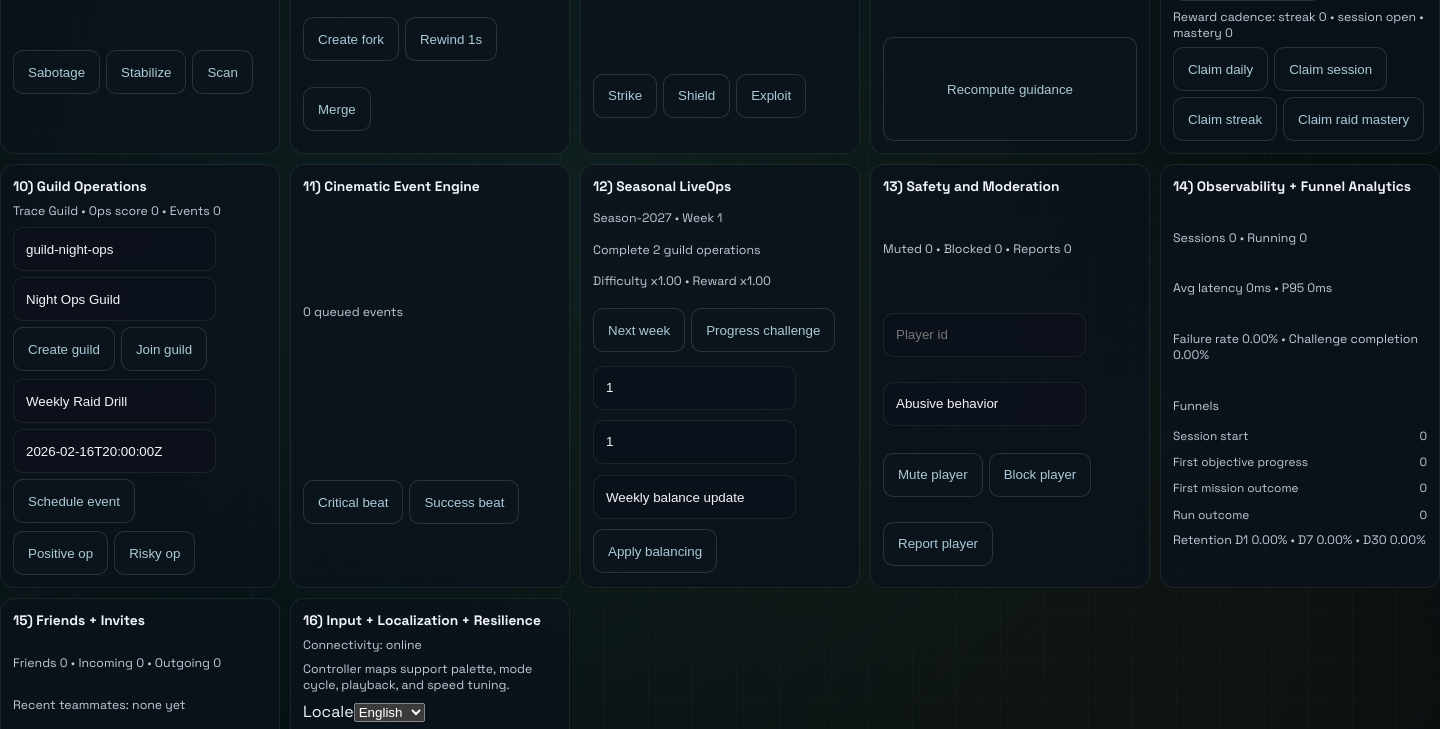
Test: GameplayMode › applies liveops balancing and creates a tuning entry
(page scrolled)
Replace the text in the field named "LiveOps difficulty factor" with "1.4" at (694, 388), box [593, 366, 796, 410]
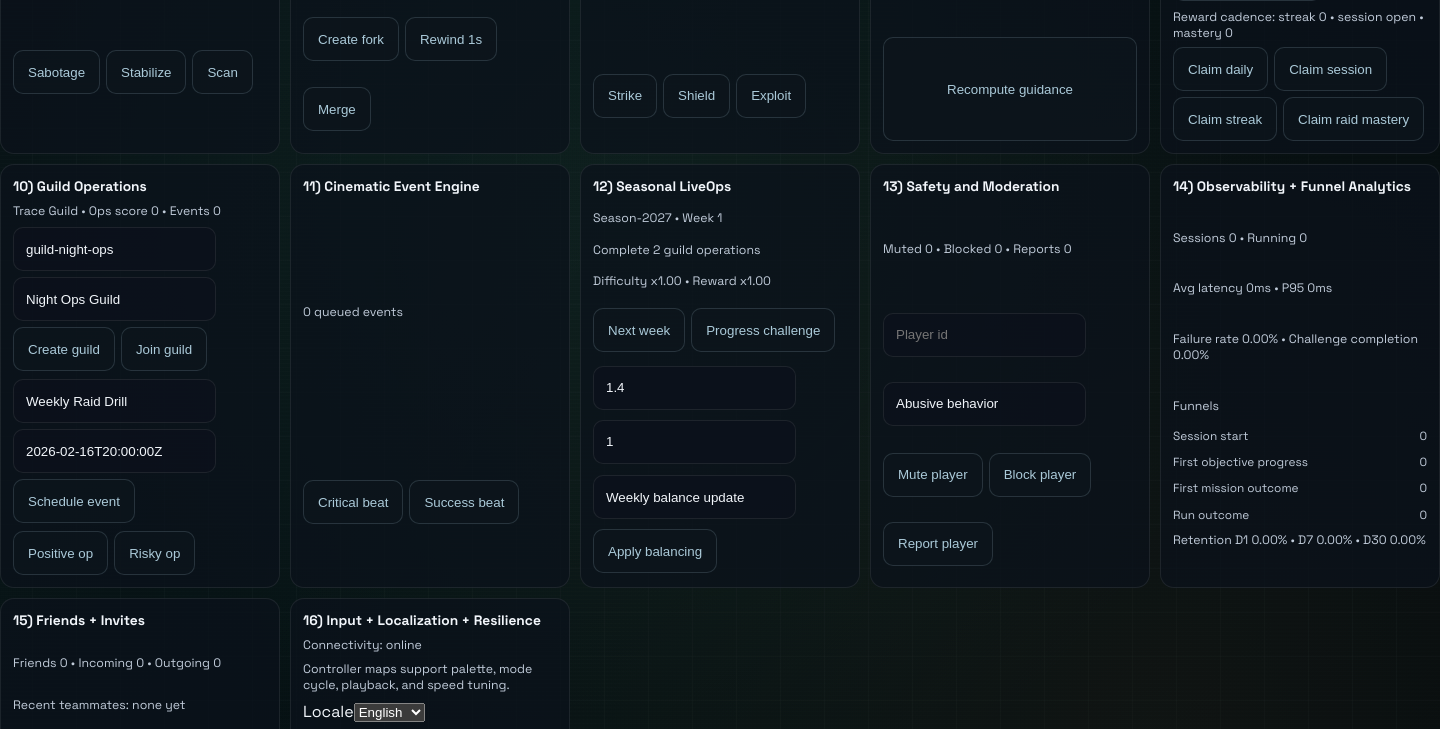
Replace the text in the field named "LiveOps reward multiplier" with "1.6" at (694, 442), box [593, 420, 796, 464]
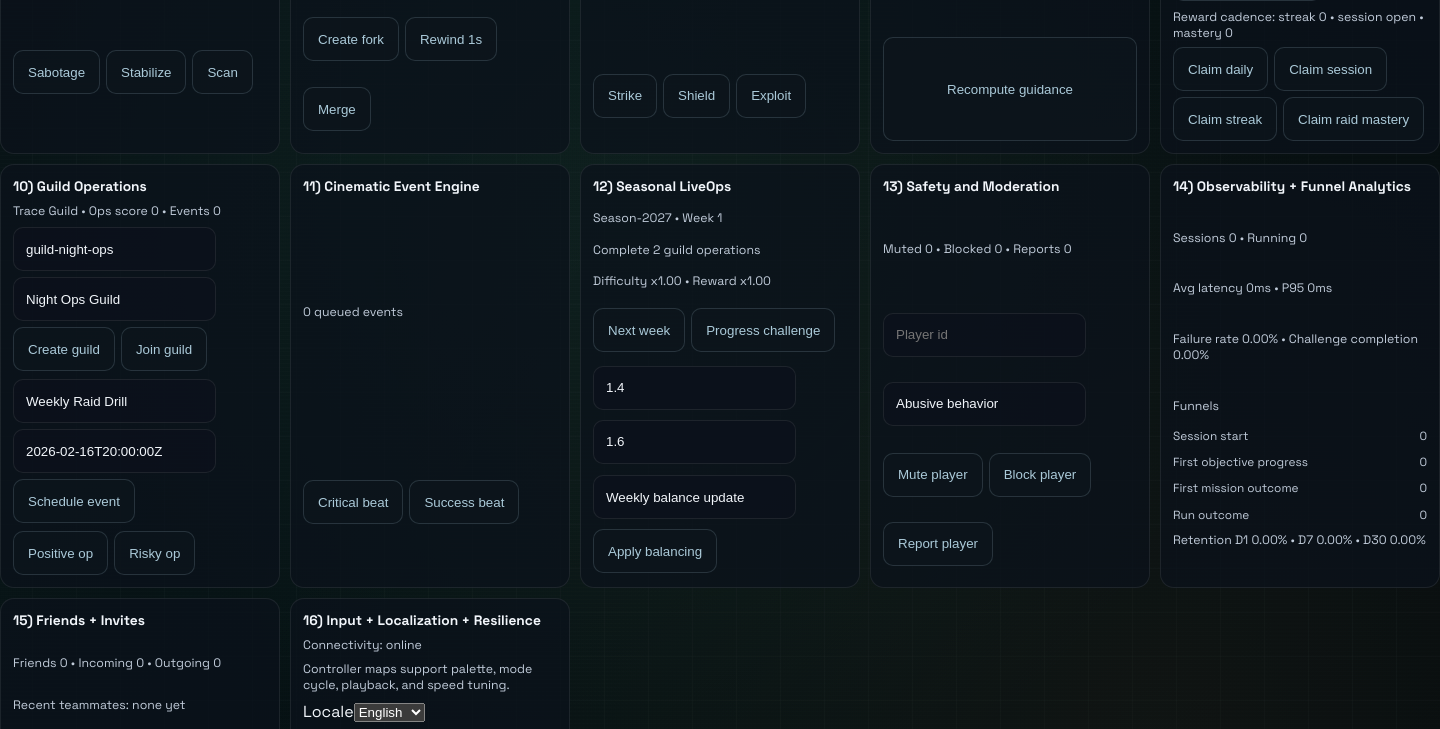
Replace the text in the field named "LiveOps tuning note" with "Ops hotfix" at (694, 497), box [593, 475, 796, 519]
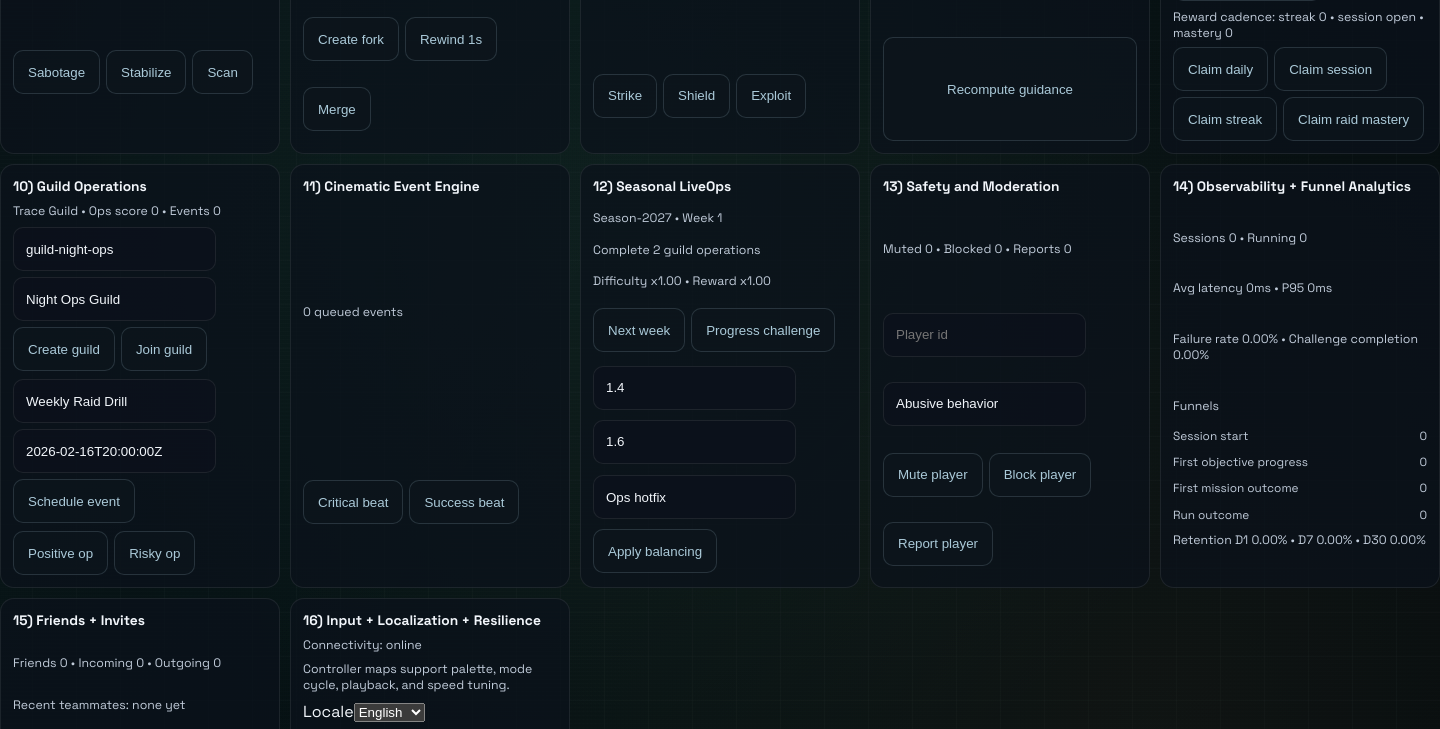
Click the button "Apply balancing" at (655, 551), box [593, 529, 717, 573]
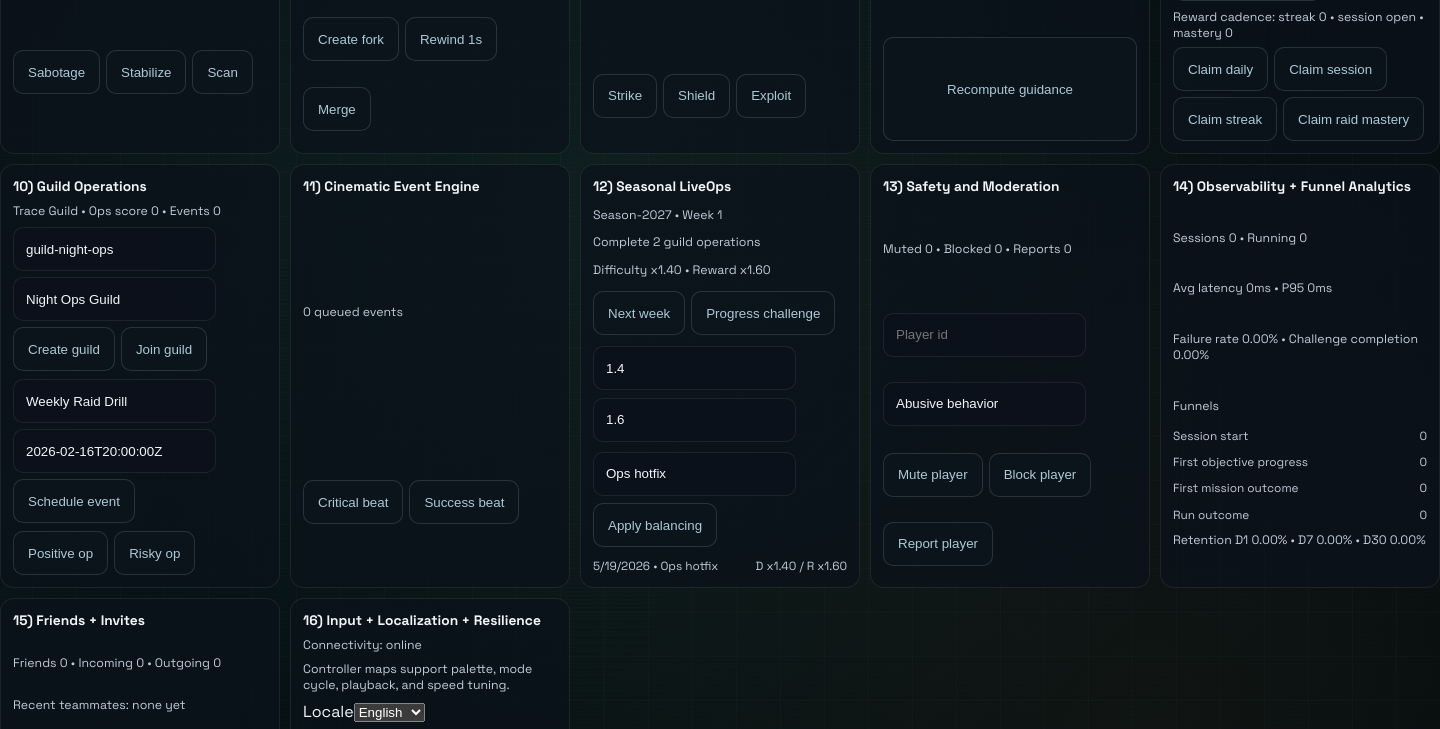
Expected: the text "5/19/2026 • Ops hotfix" is shown, [593, 558, 718, 573]
Expected: the text "Difficulty x1.40 • Reward x1.60" is shown, [593, 262, 771, 278]
